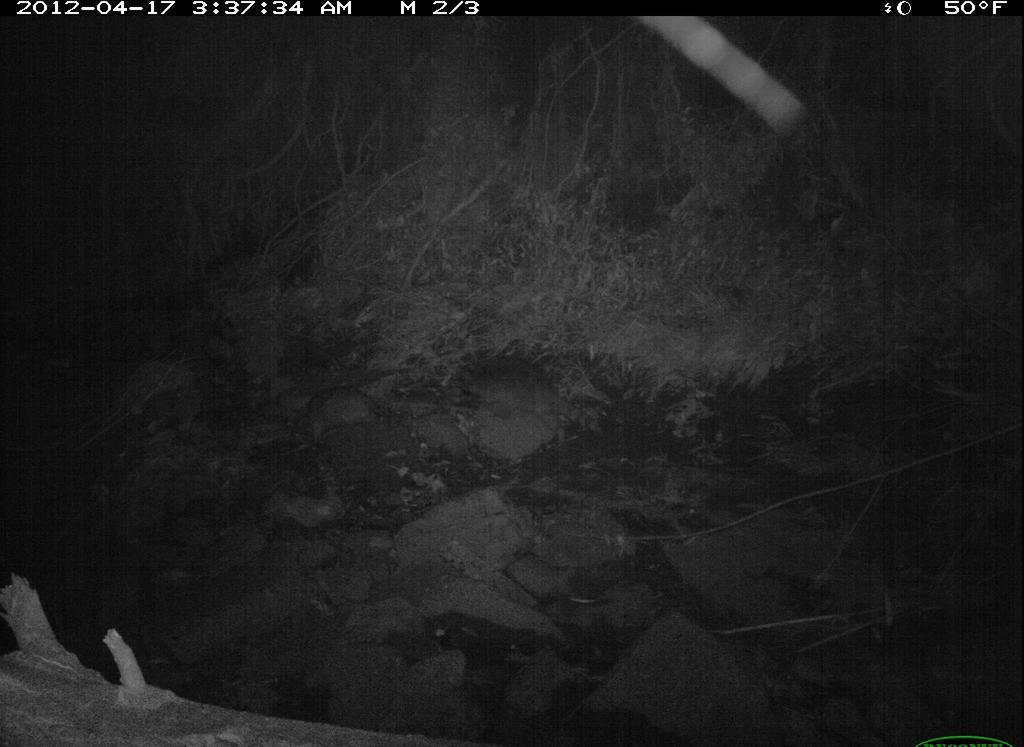raccoon: (447, 340, 585, 460)
